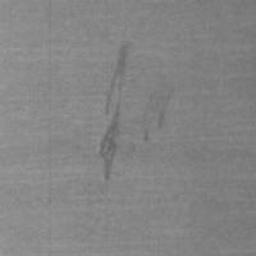Water spot: (97, 41, 136, 182), (141, 86, 178, 146)
